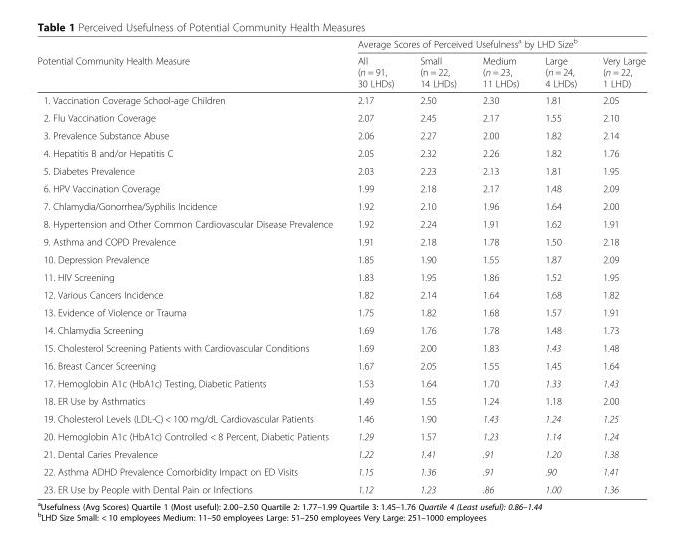table: (36, 36, 644, 494)
table column: (36, 36, 344, 494), (468, 36, 531, 494), (344, 36, 406, 494), (406, 36, 468, 494), (531, 36, 589, 494), (589, 36, 644, 494)
table column header: (36, 36, 644, 91)
table row: (36, 52, 644, 91), (36, 108, 644, 126), (36, 143, 644, 161), (36, 161, 644, 179), (36, 179, 644, 197), (36, 214, 644, 232), (36, 232, 644, 250), (36, 267, 644, 285), (36, 285, 644, 303), (36, 303, 644, 321), (36, 338, 644, 356), (36, 356, 644, 374), (36, 391, 644, 409), (36, 409, 644, 427), (36, 444, 644, 462), (36, 462, 644, 480), (36, 91, 644, 108), (36, 126, 644, 143), (36, 197, 644, 214), (36, 250, 644, 267), (36, 321, 644, 338), (36, 374, 644, 391), (36, 427, 644, 444), (36, 36, 644, 52), (36, 480, 644, 494)
table spanning cell: (36, 36, 344, 91), (344, 36, 644, 52)
